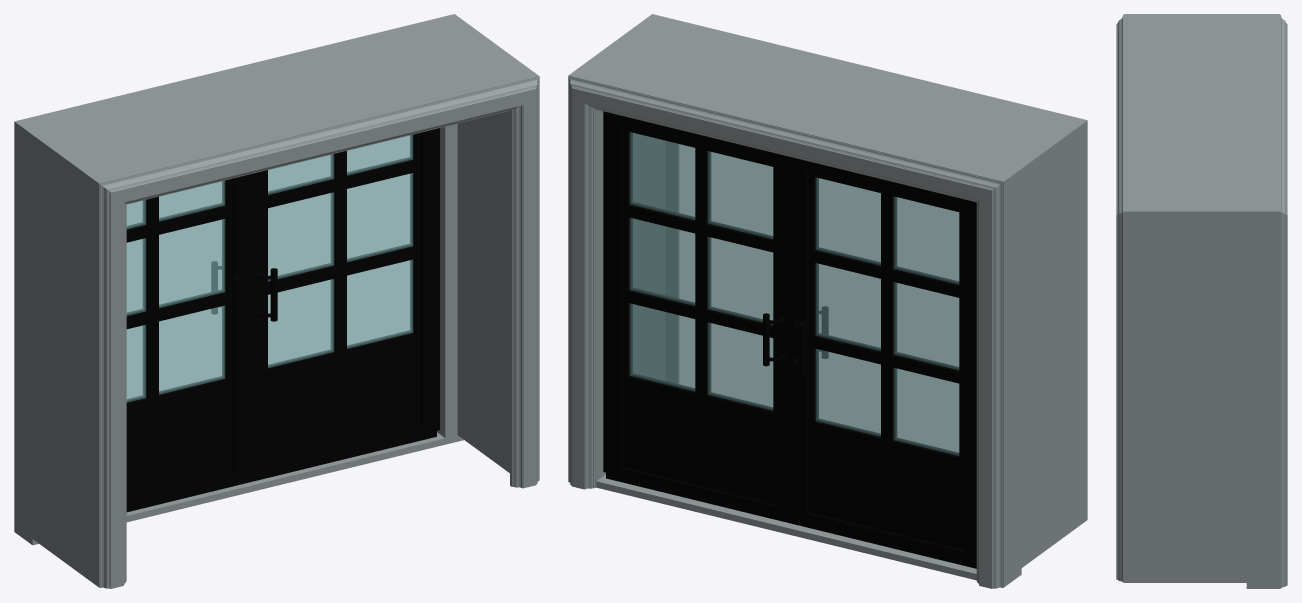
File: door.fbx
3 views of the same model, side by side, from view 1: azimuth 30°, elevation 25°; view 2: azimuth 150°, elevation 25°; view 3: azimuth 270°, elevation 25° (orthographic). The views are drawn at different scales.
Visible parts, largest first — view 1: doorway, Cube.041, Cube.001, door_r; view 2: doorway, Cube.041, Cube.001, door_r; view 3: doorway.
Part boxes in pixels (x1,y1,x2,y2): doorway: (14,14,539,588); Cube.041: (249,129,436,482); Cube.001: (126,174,248,512); door_r: (437,128,439,430); doorway: (568,14,1087,588); Cube.041: (606,112,791,523); Cube.001: (792,157,976,568); door_r: (603,111,605,472); doorway: (1116,14,1287,588).
Size of the model in its own units: 358 by 319 by 131.
